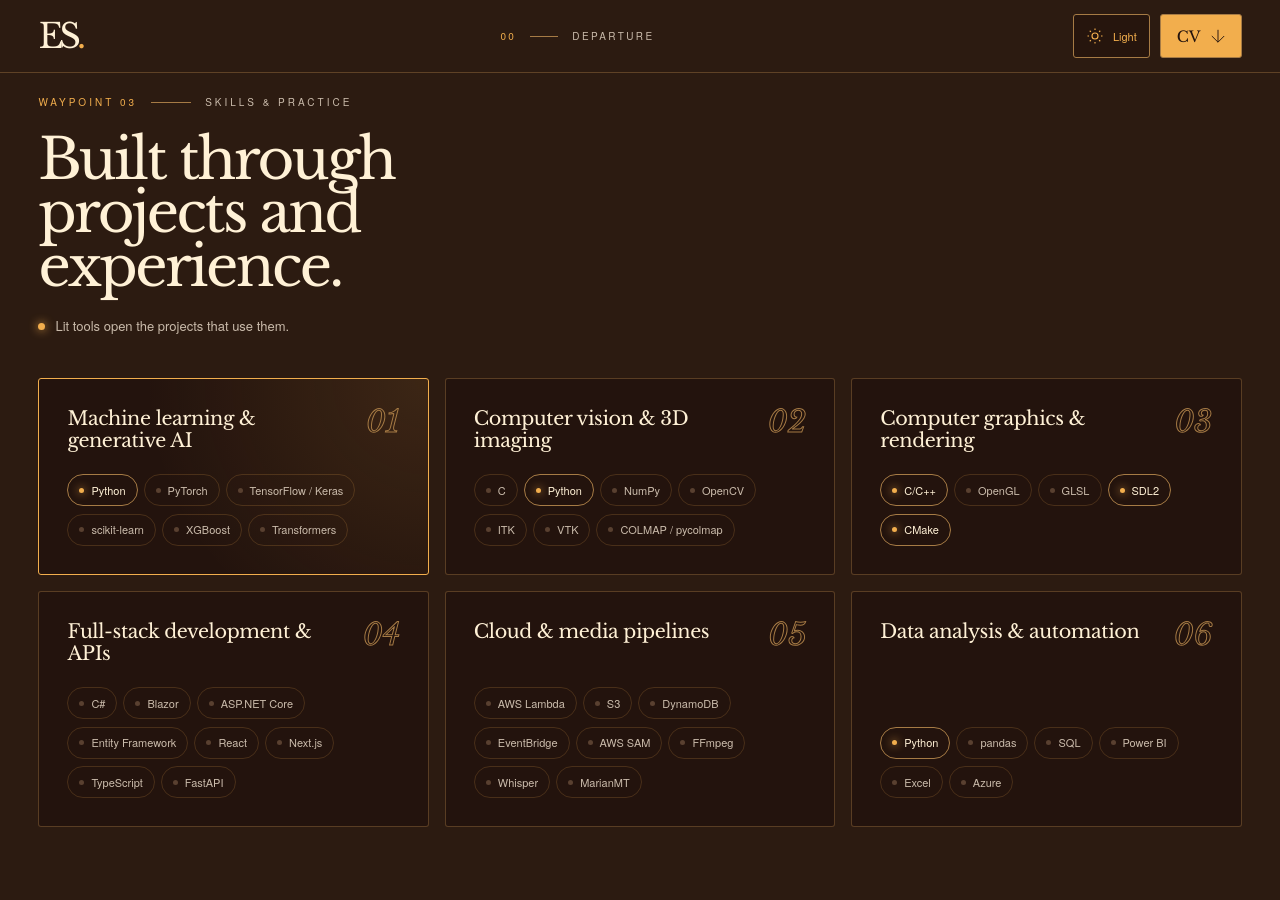
Test case: a lit skill chip sets the trail filter and scrolls to the projects
(page scrolled)
Click the button with aria-label "SDL2: show matching projects" at point(1139, 490), box [1108, 474, 1171, 506]
(page scrolled)
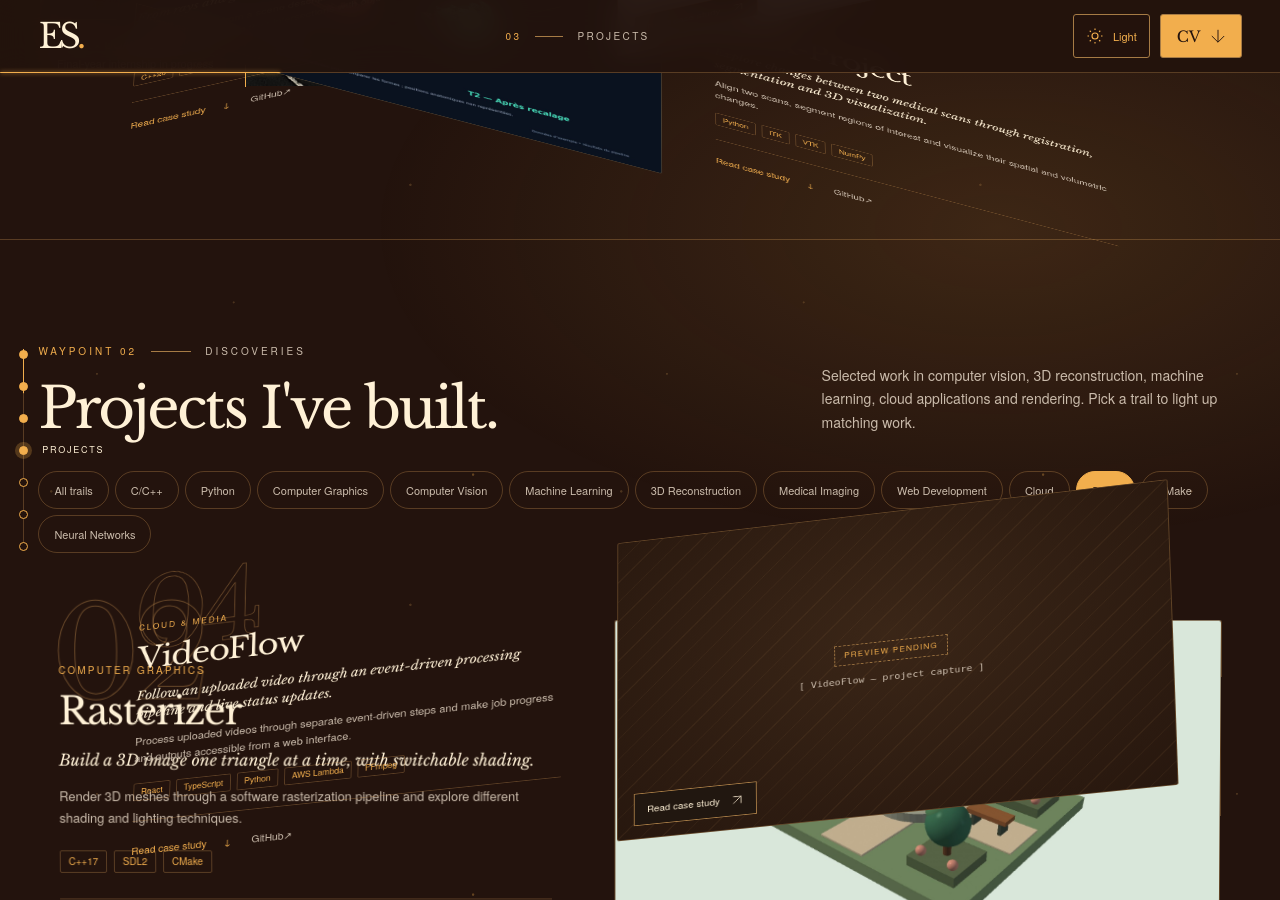
Result: the button "SDL2" is pressed at [1076, 471, 1135, 509]
